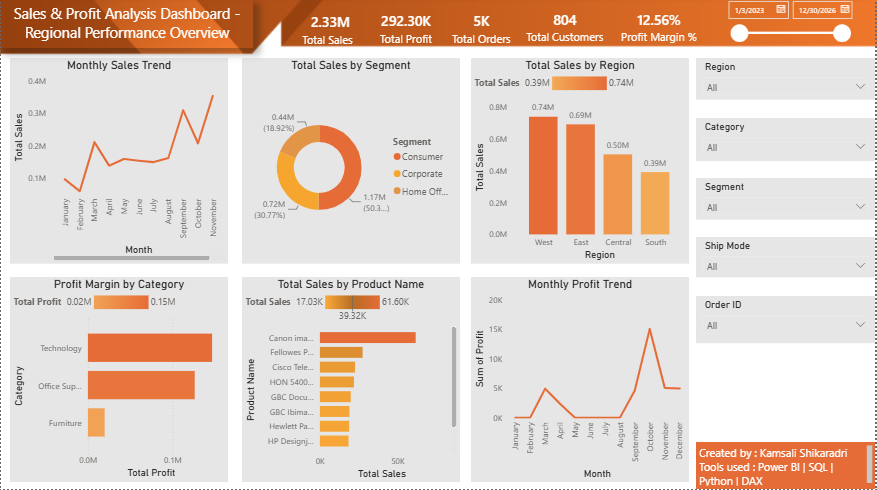

The page's visual inventory and layout, read from the dashboard file:
{"tool":"powerbi","page":{"name":"Page 1","canvas":[1280,720],"ordinal":0},"visuals":[{"type":"lineChart","title":"Monthly Sales Trend","fields":{"Category":["samplesuperstore.Order Date.Variation.Date Hierarchy.Month"],"Y":["samplesuperstore.Total Sales"]},"box":[13.2,89.3,319,301.5],"z":0},{"type":"barChart","title":"Profit Margin by Category","fields":{"Category":["samplesuperstore.Category"],"Y":["samplesuperstore.Total Profit"]},"box":[13.2,409.8,319,300],"z":1000},{"type":"columnChart","title":"Total Sales by Region ","fields":{"Category":["samplesuperstore.Region"],"Y":["samplesuperstore.Total Sales"]},"box":[687.8,89.3,319,301.5],"z":2000},{"type":"barChart","fields":{"Category":["samplesuperstore.Product Name"],"Y":["samplesuperstore.Total Sales"]},"box":[352.7,409.8,319,300],"z":3000},{"type":"donutChart","fields":{"Category":["samplesuperstore.Segment"],"Y":["samplesuperstore.Total Sales"]},"box":[352.7,89.3,319,301.5],"z":4000},{"type":"lineChart","title":"Monthly Profit Trend","fields":{"Category":["samplesuperstore.Order Date.Variation.Date Hierarchy.Month"],"Y":["Sum(samplesuperstore.Profit)"]},"box":[687.8,409.8,319,300],"z":5000},{"type":"slicer","fields":{"Values":["samplesuperstore.Region"]},"box":[1017.1,89.3,263.4,61.5],"z":6000},{"type":"slicer","fields":{"Values":["samplesuperstore.Category"]},"box":[1017.1,177.1,263.4,62.9],"z":7000},{"type":"slicer","fields":{"Values":["samplesuperstore.Segment"]},"box":[1017.1,264.9,263.4,61.5],"z":8000},{"type":"slicer","fields":{"Values":["samplesuperstore.Ship Mode"]},"box":[1017.1,351.2,263.4,58.5],"z":9000},{"type":"slicer","fields":{"Values":["samplesuperstore.Order ID"]},"box":[1017.1,437.6,263.4,68.8],"z":10000},{"type":"cardVisual","fields":{"Data":["samplesuperstore.Total Sales"]},"box":[425.9,10.2,112.7,74.6],"z":11000},{"type":"cardVisual","fields":{"Data":["samplesuperstore.Total Profit"]},"box":[538.5,8.8,108.3,73.2],"z":12000},{"type":"cardVisual","fields":{"Data":["samplesuperstore.Total Orders"]},"box":[646.8,8.8,112.7,73.2],"z":13000},{"type":"cardVisual","fields":{"Data":["samplesuperstore.Total Customers"]},"box":[759.5,8.8,131.7,70.2],"z":14000},{"type":"slicer","fields":{"Values":["samplesuperstore.Order Date"]},"box":[1056.6,0,209.3,89.3],"z":15000},{"type":"textbox","box":[0,10.2,288.3,57.1],"z":16000},{"type":"textbox","box":[1017.1,651.2,263.4,68.8],"z":17000},{"type":"cardVisual","fields":{"Data":["samplesuperstore.Profit Margin %"]},"box":[891.2,8.8,143.4,70.2],"z":19000}]}

Visuals, with their boxes in screenshot pixels (x1, y1, x2, y2), scaled from the page's 1280x720 canvas onto the 877x490 screenshot:
"Monthly Sales Trend" lineChart: select_region(9, 61, 228, 266)
"Profit Margin by Category" barChart: select_region(9, 279, 228, 483)
"Total Sales by Region " columnChart: select_region(471, 61, 690, 266)
barChart - samplesuperstore.Product Name x samplesuperstore.Total Sales: select_region(242, 279, 460, 483)
donutChart - samplesuperstore.Segment x samplesuperstore.Total Sales: select_region(242, 61, 460, 266)
"Monthly Profit Trend" lineChart: select_region(471, 279, 690, 483)
slicer - samplesuperstore.Region: select_region(697, 61, 876, 103)
slicer - samplesuperstore.Category: select_region(697, 121, 876, 163)
slicer - samplesuperstore.Segment: select_region(697, 180, 876, 222)
slicer - samplesuperstore.Ship Mode: select_region(697, 239, 876, 279)
slicer - samplesuperstore.Order ID: select_region(697, 298, 876, 345)
cardVisual - samplesuperstore.Total Sales: select_region(292, 7, 369, 58)
cardVisual - samplesuperstore.Total Profit: select_region(369, 6, 443, 56)
cardVisual - samplesuperstore.Total Orders: select_region(443, 6, 520, 56)
cardVisual - samplesuperstore.Total Customers: select_region(520, 6, 611, 54)
slicer - samplesuperstore.Order Date: select_region(724, 0, 867, 61)
textbox: select_region(0, 7, 198, 46)
textbox: select_region(697, 443, 876, 489)
cardVisual - samplesuperstore.Profit Margin %: select_region(611, 6, 709, 54)
